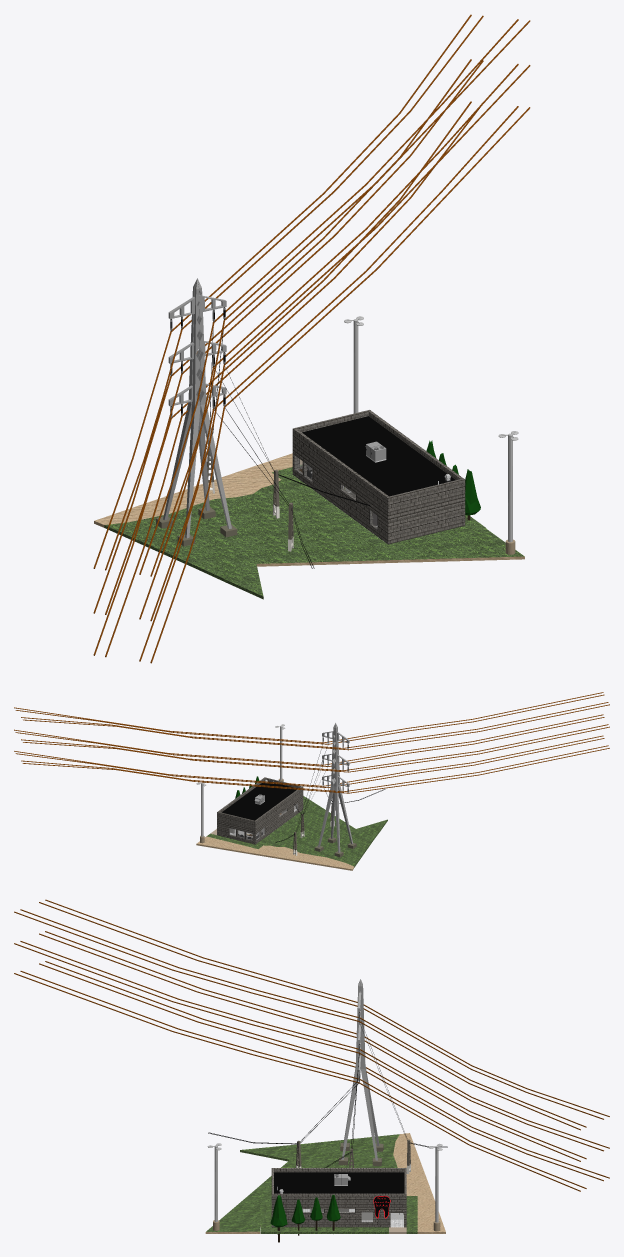
File: Dentist Office.glb
3 views of the same model, one above another, from view 1: azimuth 30°, elevation 25°; view 2: azimuth 150°, elevation 25°; view 3: azimuth 270°, elevation 25° (orthographic). The views are drawn at different scales.
Visible parts, largest first — view 1: Undeveloped Land, Wires, Ext Walls, E Tower, Roof, Site, Post; view 2: Wires, Undeveloped Land, Ext Walls, E Tower, Roof, Site, Post, Windows, LV Wires.004; view 3: Wires, Undeveloped Land, Ext Walls, Roof, E Tower, Site, Trees, Post, LV Wires.004.
Part boxes in pixels (left/top/right/bottom): Undeveloped Land: left=94, top=453, right=524, bottom=599; Wires: left=93, top=14, right=530, bottom=663; Ext Walls: left=292, top=410, right=465, bottom=544; E Tower: left=156, top=278, right=237, bottom=546; Roof: left=302, top=416, right=455, bottom=496; Site: left=272, top=465, right=486, bottom=553; Post: left=344, top=316, right=518, bottom=554; Wires: left=14, top=692, right=609, bottom=793; Undeveloped Land: left=196, top=796, right=387, bottom=870; Ext Walls: left=217, top=777, right=303, bottom=844; E Tower: left=314, top=723, right=356, bottom=857; Roof: left=222, top=781, right=297, bottom=820; Site: left=206, top=806, right=313, bottom=848; Post: left=196, top=724, right=285, bottom=843; Windows: left=229, top=803, right=297, bottom=840; LV Wires.004: left=275, top=744, right=385, bottom=842; Wires: left=14, top=899, right=609, bottom=1191; Undeveloped Land: left=205, top=1133, right=445, bottom=1233; Ext Walls: left=271, top=1168, right=406, bottom=1227; Roof: left=274, top=1172, right=404, bottom=1193; E Tower: left=338, top=979, right=383, bottom=1165; Site: left=260, top=1196, right=417, bottom=1233; Trees: left=270, top=1194, right=340, bottom=1242; Post: left=207, top=1143, right=442, bottom=1231; LV Wires.004: left=208, top=1019, right=447, bottom=1167.
Size of what is drawn, in the model's own units: 90.11 by 30.98 by 80.71.
Materials: 93 (9 with a texture image).
